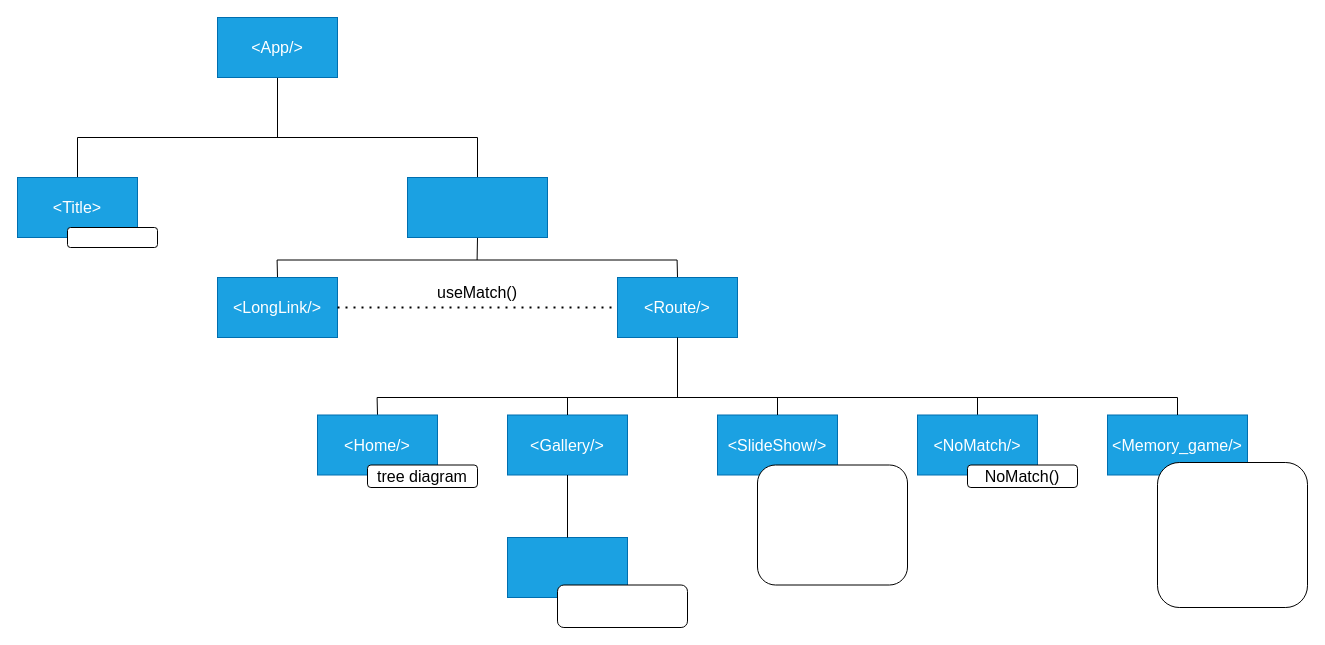
The diagram is 1325 pixels wide and 645 high, and some of its shapes have lost their labels. The centre of each missing label's shape, as x and y in pixels:
<BrowserRouter/>: the point at 477,207
<FileCard/>: the point at 567,567
props.name: the point at 112,237
setCards setActiveCards setFoundPairs setClicks setWon flipCard(index) restart(): the point at 1232,535
state.selected handleClick(): the point at 622,606
state.selected state.currentInterval start() stop() faster() slower(): the point at 832,524
